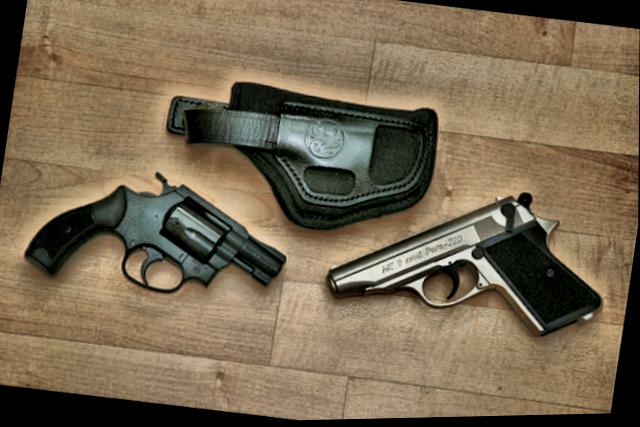pistol: (322, 165, 612, 348), (14, 149, 299, 309)
